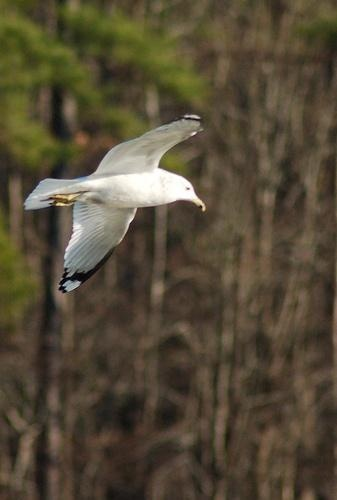bird: (23, 114, 207, 295)
